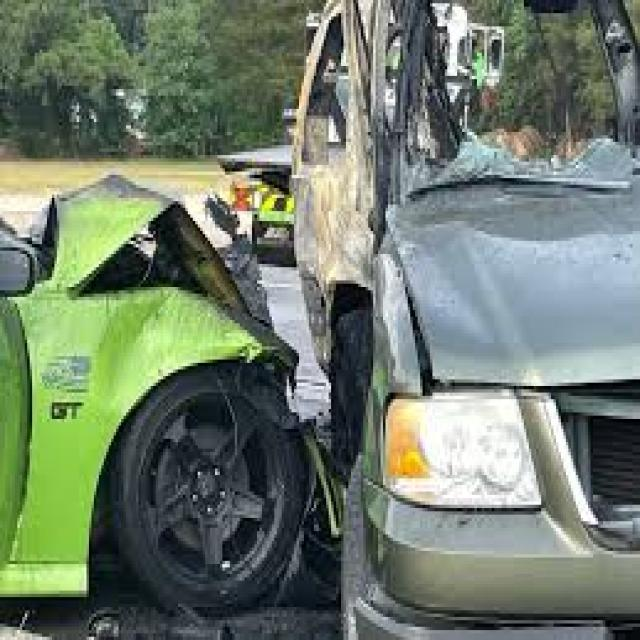accident: (54, 60, 562, 575)
